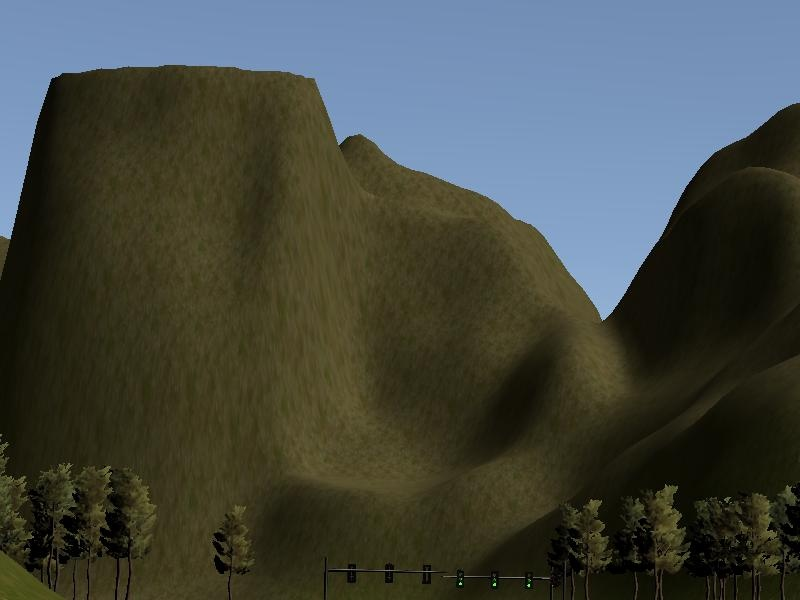Green: (525, 572, 533, 589), (457, 570, 464, 588), (491, 571, 498, 589)
